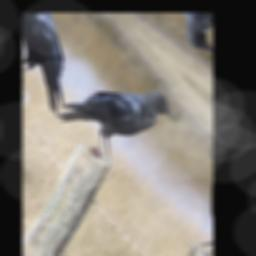Crow: (55, 36, 183, 194)
